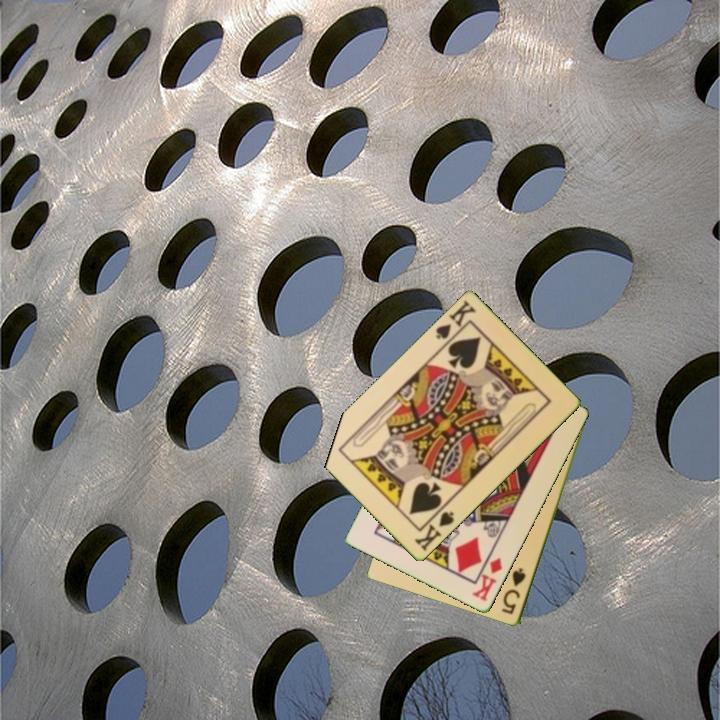5s: (498, 565, 529, 618)
Kd: (468, 554, 506, 605)
Ks: (432, 297, 479, 349), (411, 502, 457, 554)
